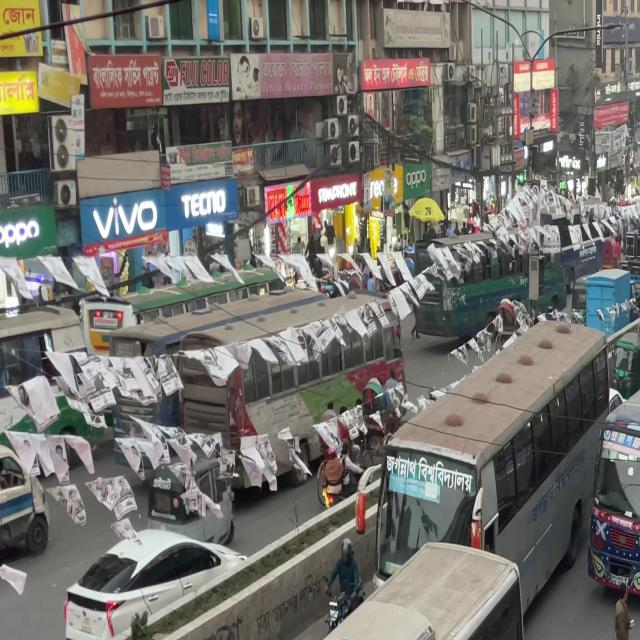bus: (371, 330, 615, 587), (115, 533, 539, 640), (586, 346, 640, 612)
